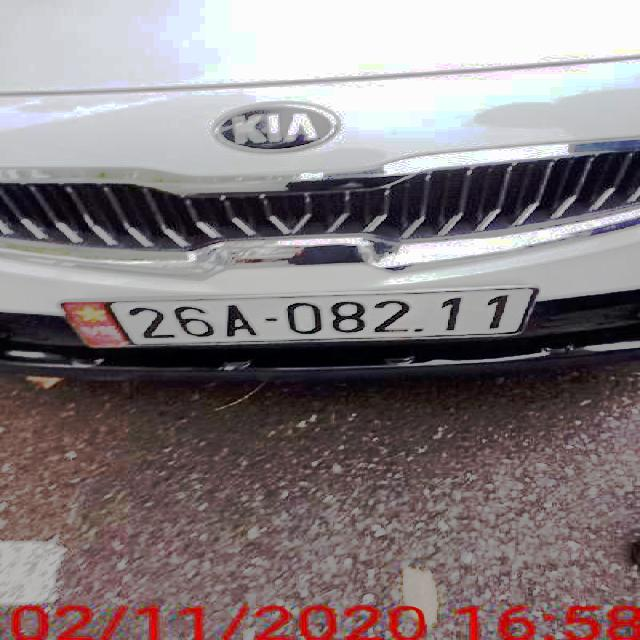license_plate: (61, 292, 536, 349)
